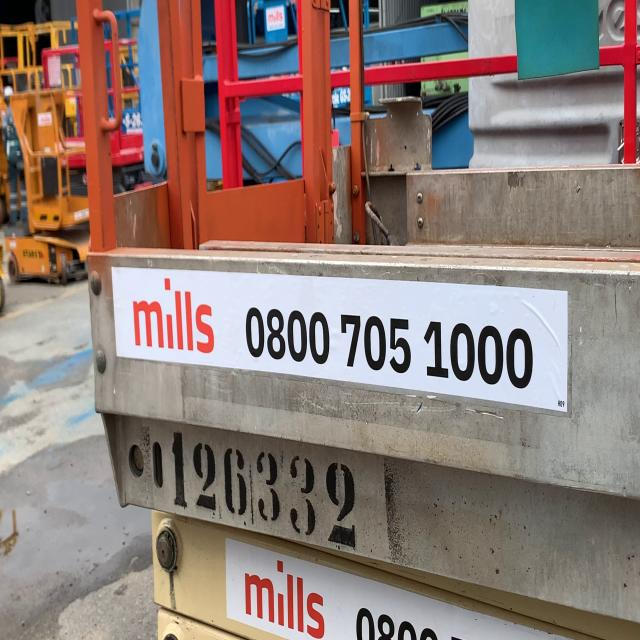Adesivo Longo: (107, 258, 576, 424)
